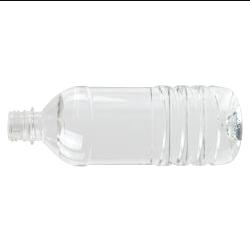bottle: (4, 80, 242, 167)
